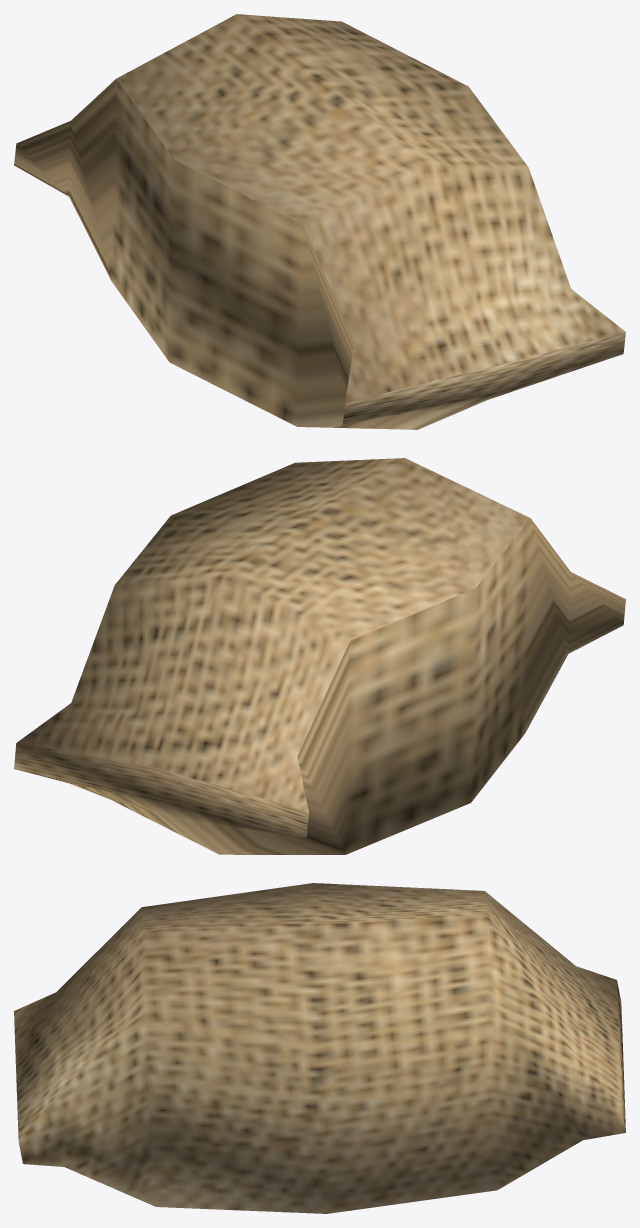
The model's file is Saco.fbx.
The picture shows the model from 3 angles, top to bottom: view 1: azimuth 30°, elevation 25°; view 2: azimuth 150°, elevation 25°; view 3: azimuth 270°, elevation 25°; orthographic projection. The views are drawn at different scales.
Parts seen in each view (by area): view 1: Saco; view 2: Saco; view 3: Saco.
Part boxes in pixels (left/top/right/bottom): Saco: left=14, top=14, right=625, bottom=429; Saco: left=14, top=458, right=625, bottom=854; Saco: left=14, top=883, right=625, bottom=1213.
Bounding box in the file's own units: 91.64 × 174 × 85.24.
